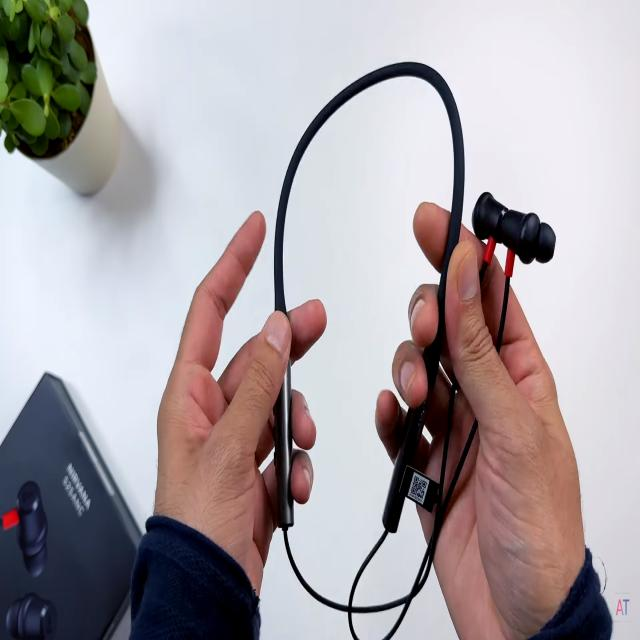Neckband: (274, 58, 557, 640)
